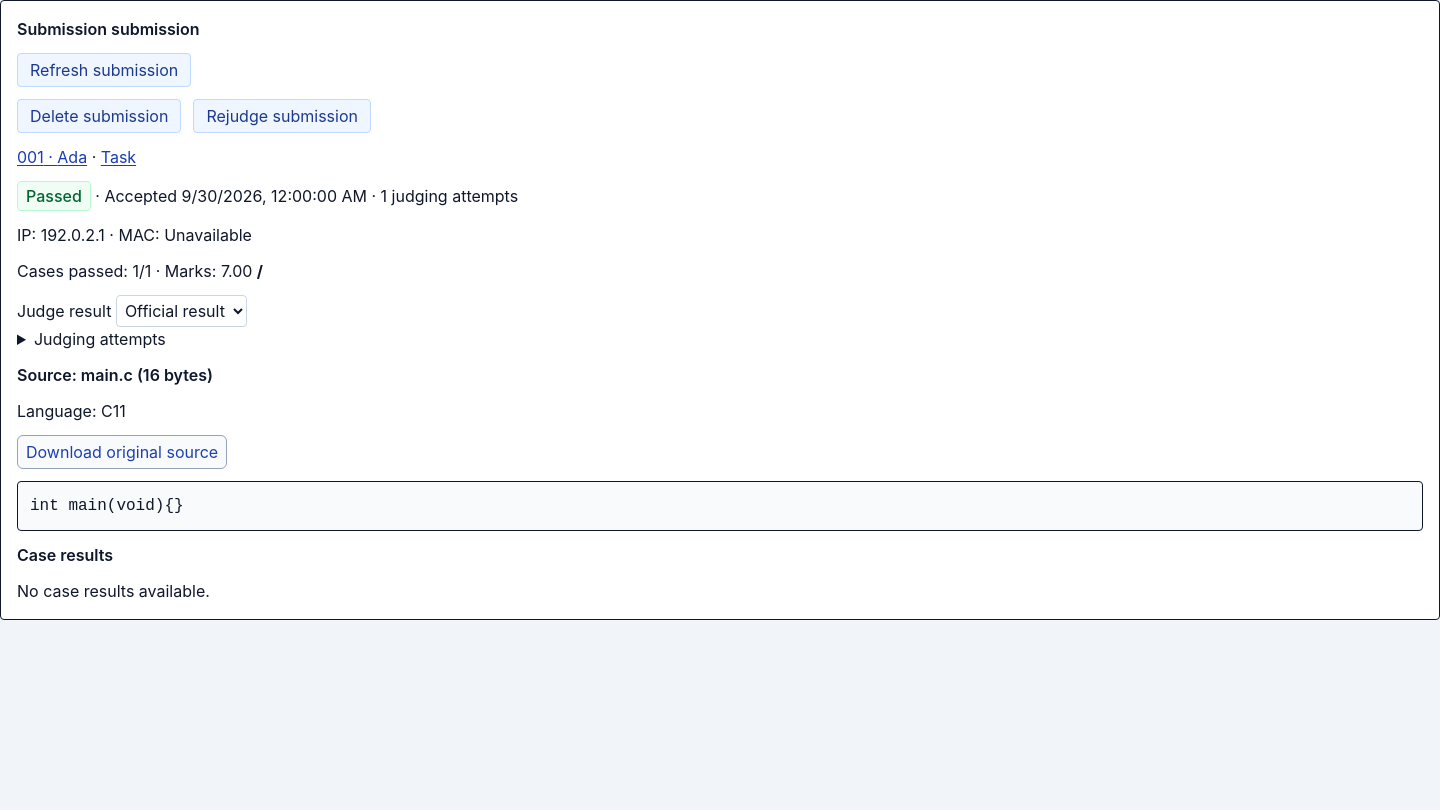
submission deletion preserves the page and requires an audited reason
Click the button "Delete submission": (99, 116) [17, 99, 181, 133]
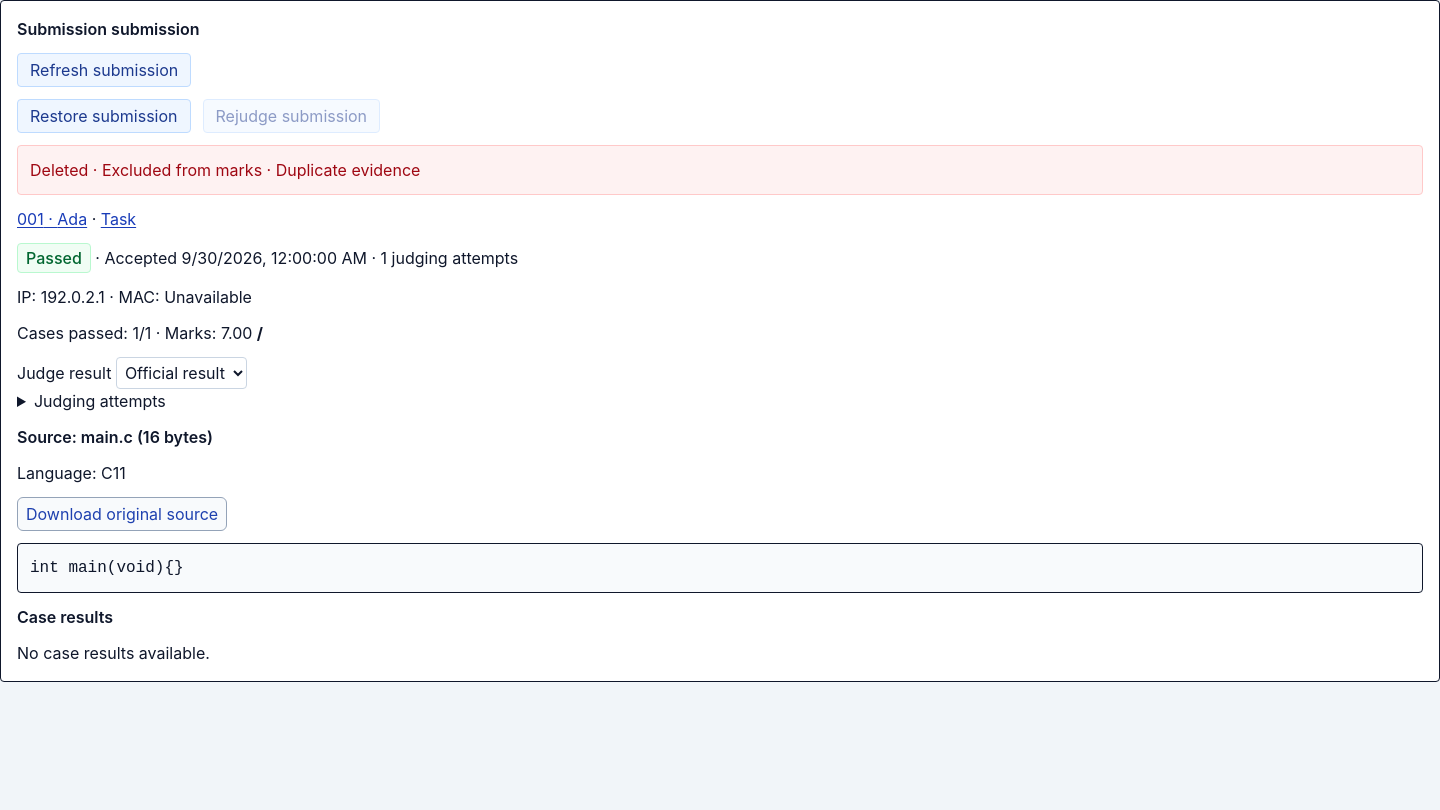
Expected: the button "Restore submission" is shown, [17, 99, 190, 133]
Expected: the text "Deleted · Excluded from marks · Duplicate evidence" is shown, [17, 145, 1423, 195]
